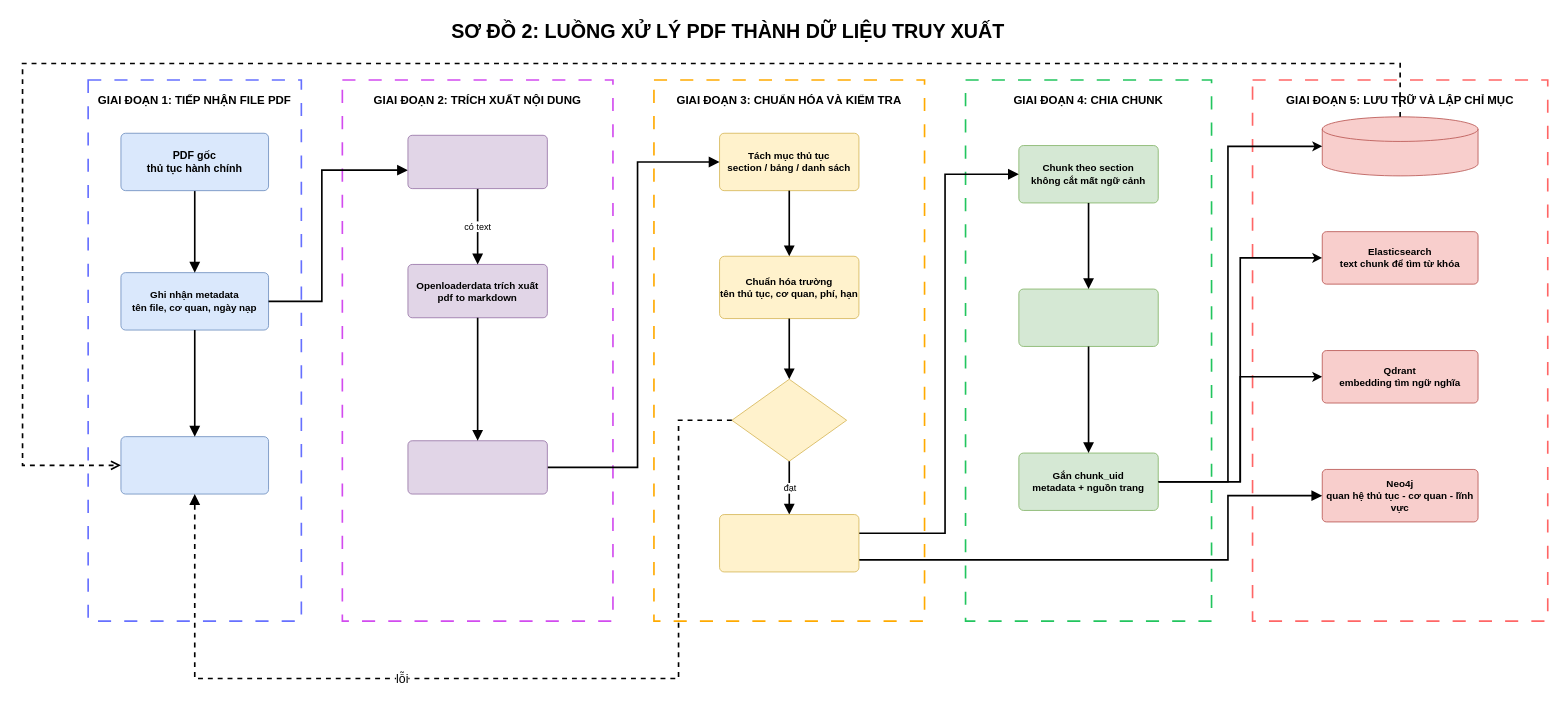
Image size: 1562x701. Some labels were removed from this diagram. Here are the shapes that lost their labels. From the top down, the centre of each, then its label:
At (x=477, y=161): "PDF text từ đầu vào".
At (x=1399, y=146): "PostgreSQL fact thủ tục + FAQ/Q&A".
At (x=1088, y=317): "Table-aware chunk parent / row / group".
At (x=789, y=419): "Kiểm tra chất lượng".
At (x=194, y=465): "Theo dõi trạng thái PENDING / READY / FAILED".
At (x=477, y=467): "Markdown sạch giữ số trang và tiêu đề".
At (x=789, y=543): "JSON/markdown chuẩn kèm metadata nguồn".
